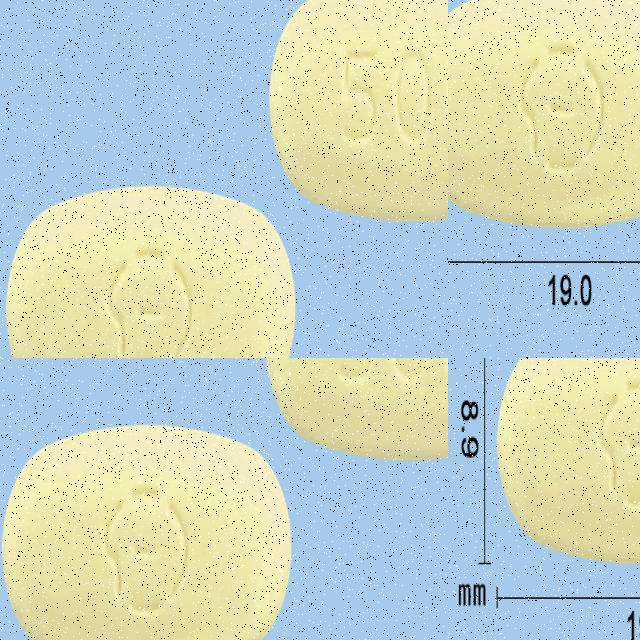Claric - 500mg: (2, 170, 303, 358), (272, 0, 448, 228)
Clarione: (492, 358, 640, 571)
Clratomin: (448, 0, 640, 228)
Doxic: (4, 358, 247, 640), (287, 358, 448, 640)
